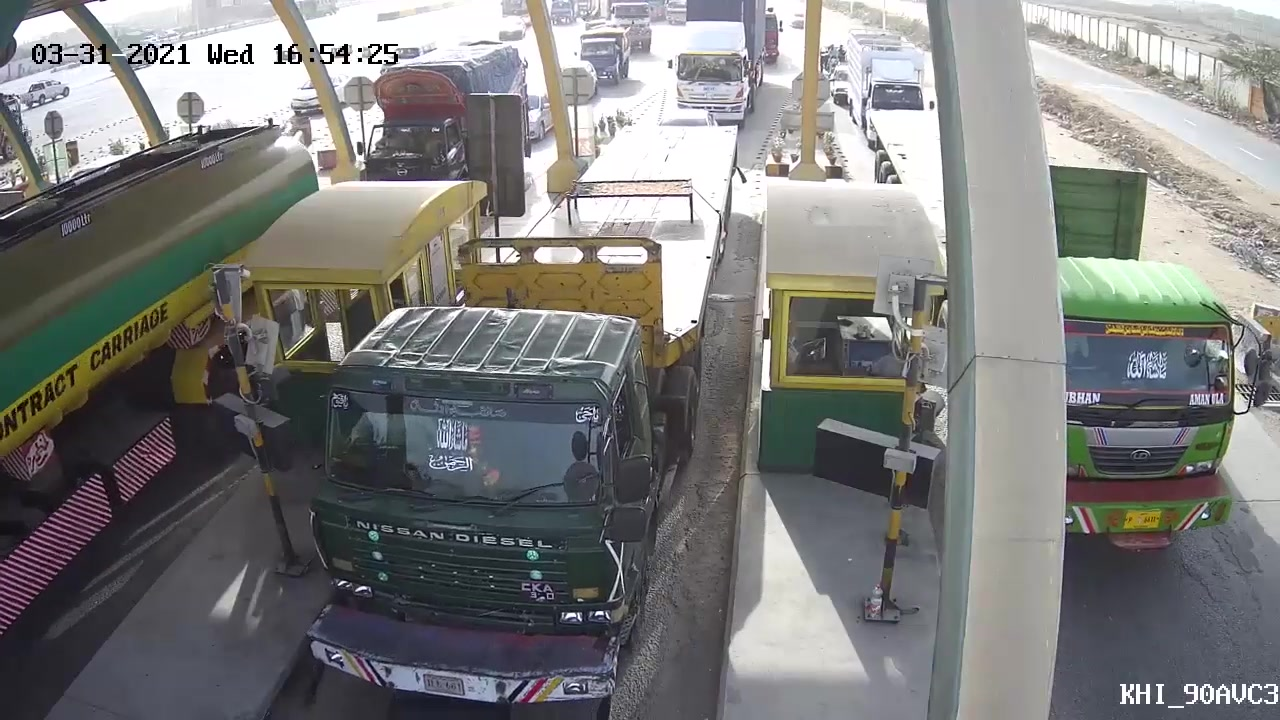F6: (301, 108, 744, 708)
